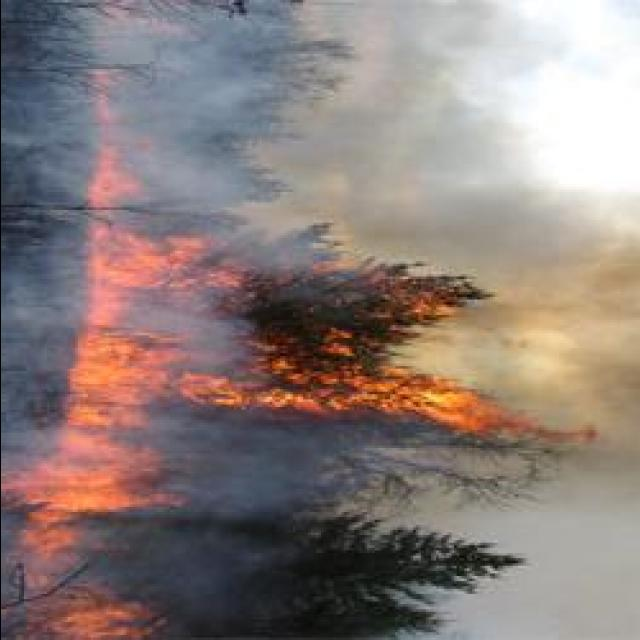fire: (95, 233, 207, 295), (276, 380, 474, 414), (42, 452, 140, 514), (77, 340, 160, 406)
smoke: (514, 188, 634, 402), (350, 102, 516, 246), (61, 74, 252, 132), (362, 5, 499, 68), (125, 312, 237, 333)
